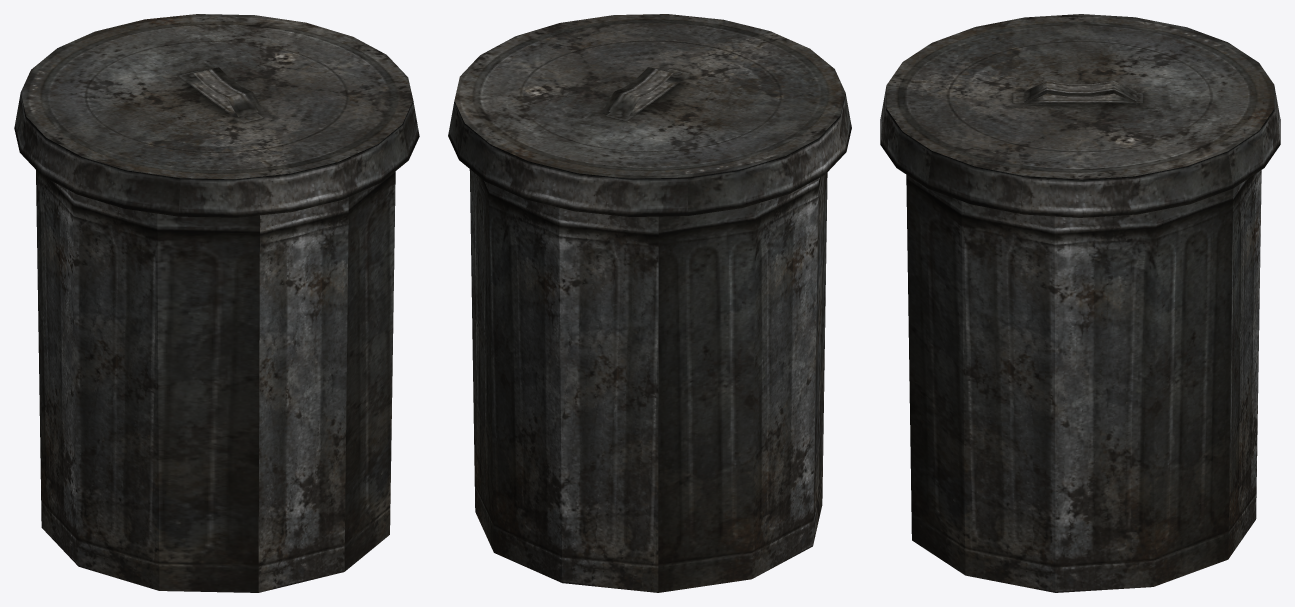
The model's file is TrashCan.fbx.
3 renders of one model, left to right at view 1: azimuth 30°, elevation 25°; view 2: azimuth 150°, elevation 25°; view 3: azimuth 270°, elevation 25°, orthographic.
Parts seen in each view (by area): view 1: TrashCan; view 2: TrashCan; view 3: TrashCan.
Part boxes in pixels (bbox=[...]): TrashCan: bbox=[14, 14, 419, 592]; TrashCan: bbox=[448, 14, 851, 592]; TrashCan: bbox=[880, 14, 1280, 592].
Size of the model in its own units: 1.24 by 1.48 by 1.23.
1 material, 1 textured.
